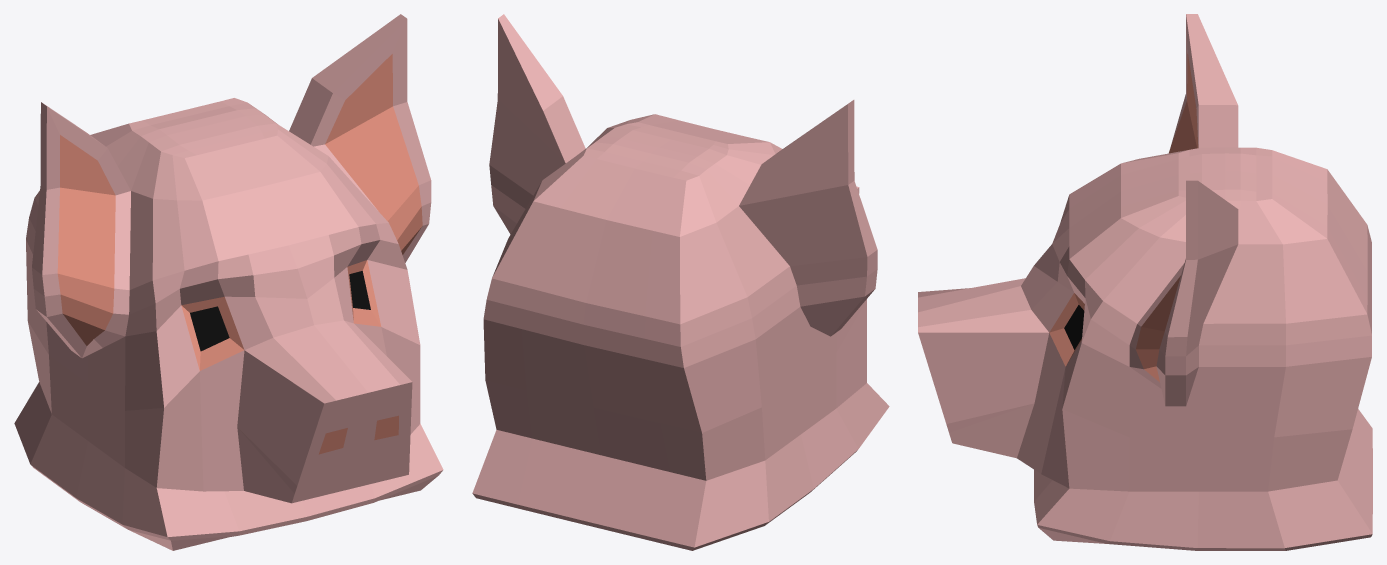
Rendered from Pighead.fbx.
The picture shows the model from 3 angles, left to right: view 1: azimuth 30°, elevation 25°; view 2: azimuth 150°, elevation 25°; view 3: azimuth 270°, elevation 25°; orthographic projection. The views are drawn at different scales.
Parts seen in each view (by area): view 1: Cube; view 2: Cube; view 3: Cube.
Boxes of the visible parts, box(x1,y1,x2,y2) form: Cube: box(14, 14, 443, 550); Cube: box(472, 14, 889, 550); Cube: box(918, 14, 1372, 550).
Bounding box in the file's own units: 27.81 × 28 × 29.71.
